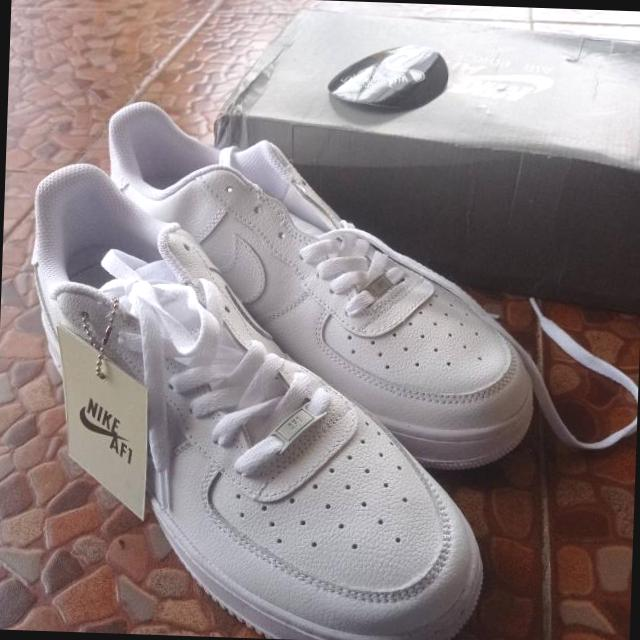nike_fake_airforce: (3, 156, 518, 640), (93, 100, 593, 475)
